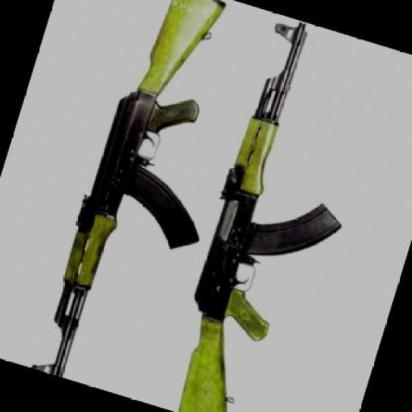Gun: (148, 13, 410, 412), (12, 0, 255, 400)
